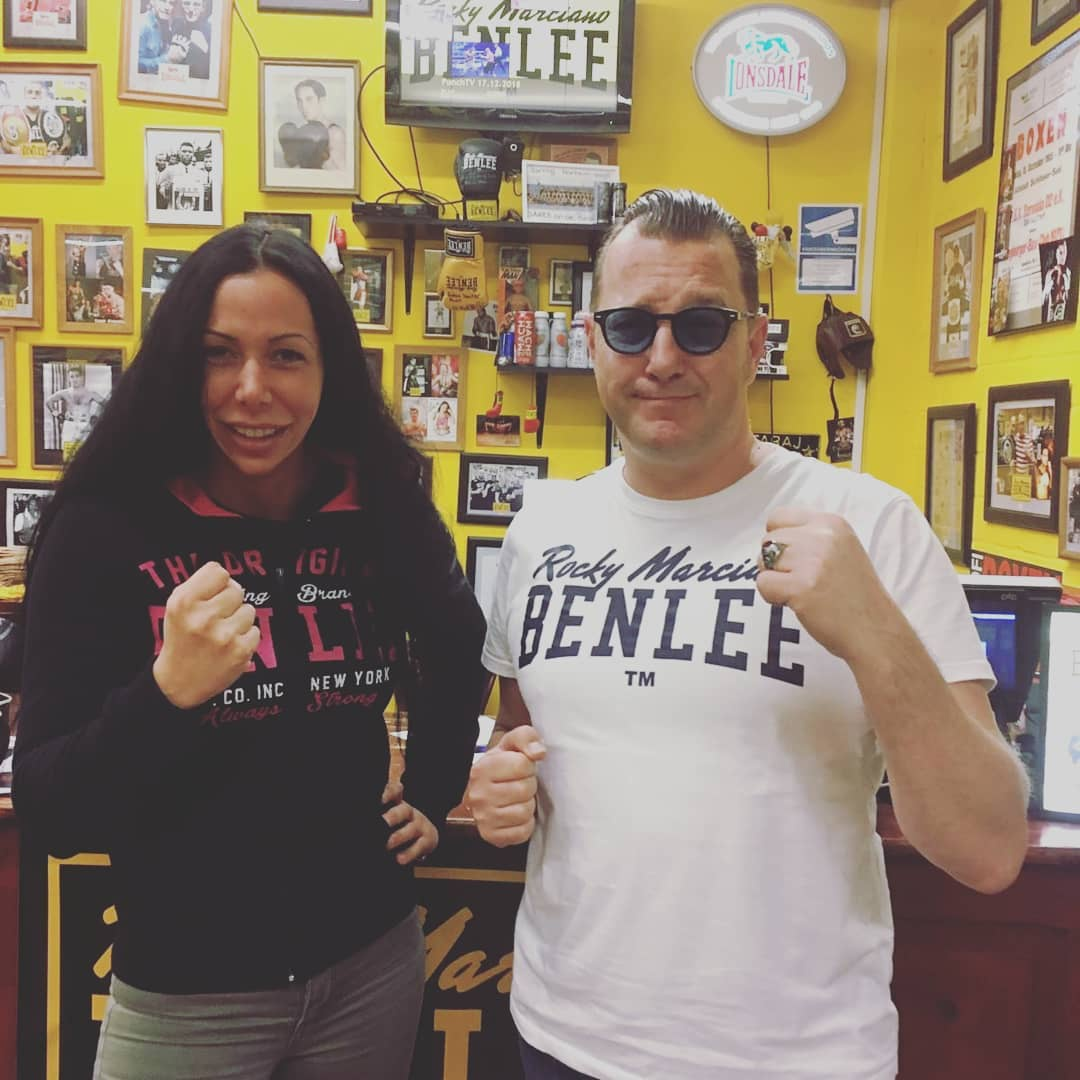hand: (343, 791, 434, 862)
